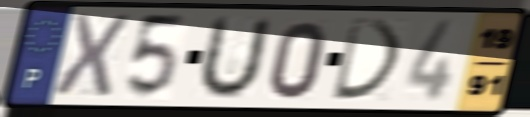0: (263, 17, 330, 103)
4: (403, 16, 459, 106)
5: (121, 11, 194, 103)
D: (329, 16, 406, 103)
U: (192, 14, 275, 102)
X: (49, 11, 133, 101)
